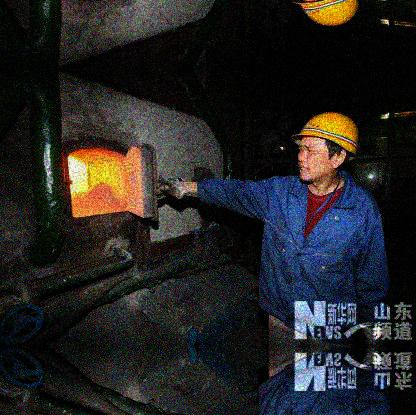helmet: (291, 112, 362, 184)
